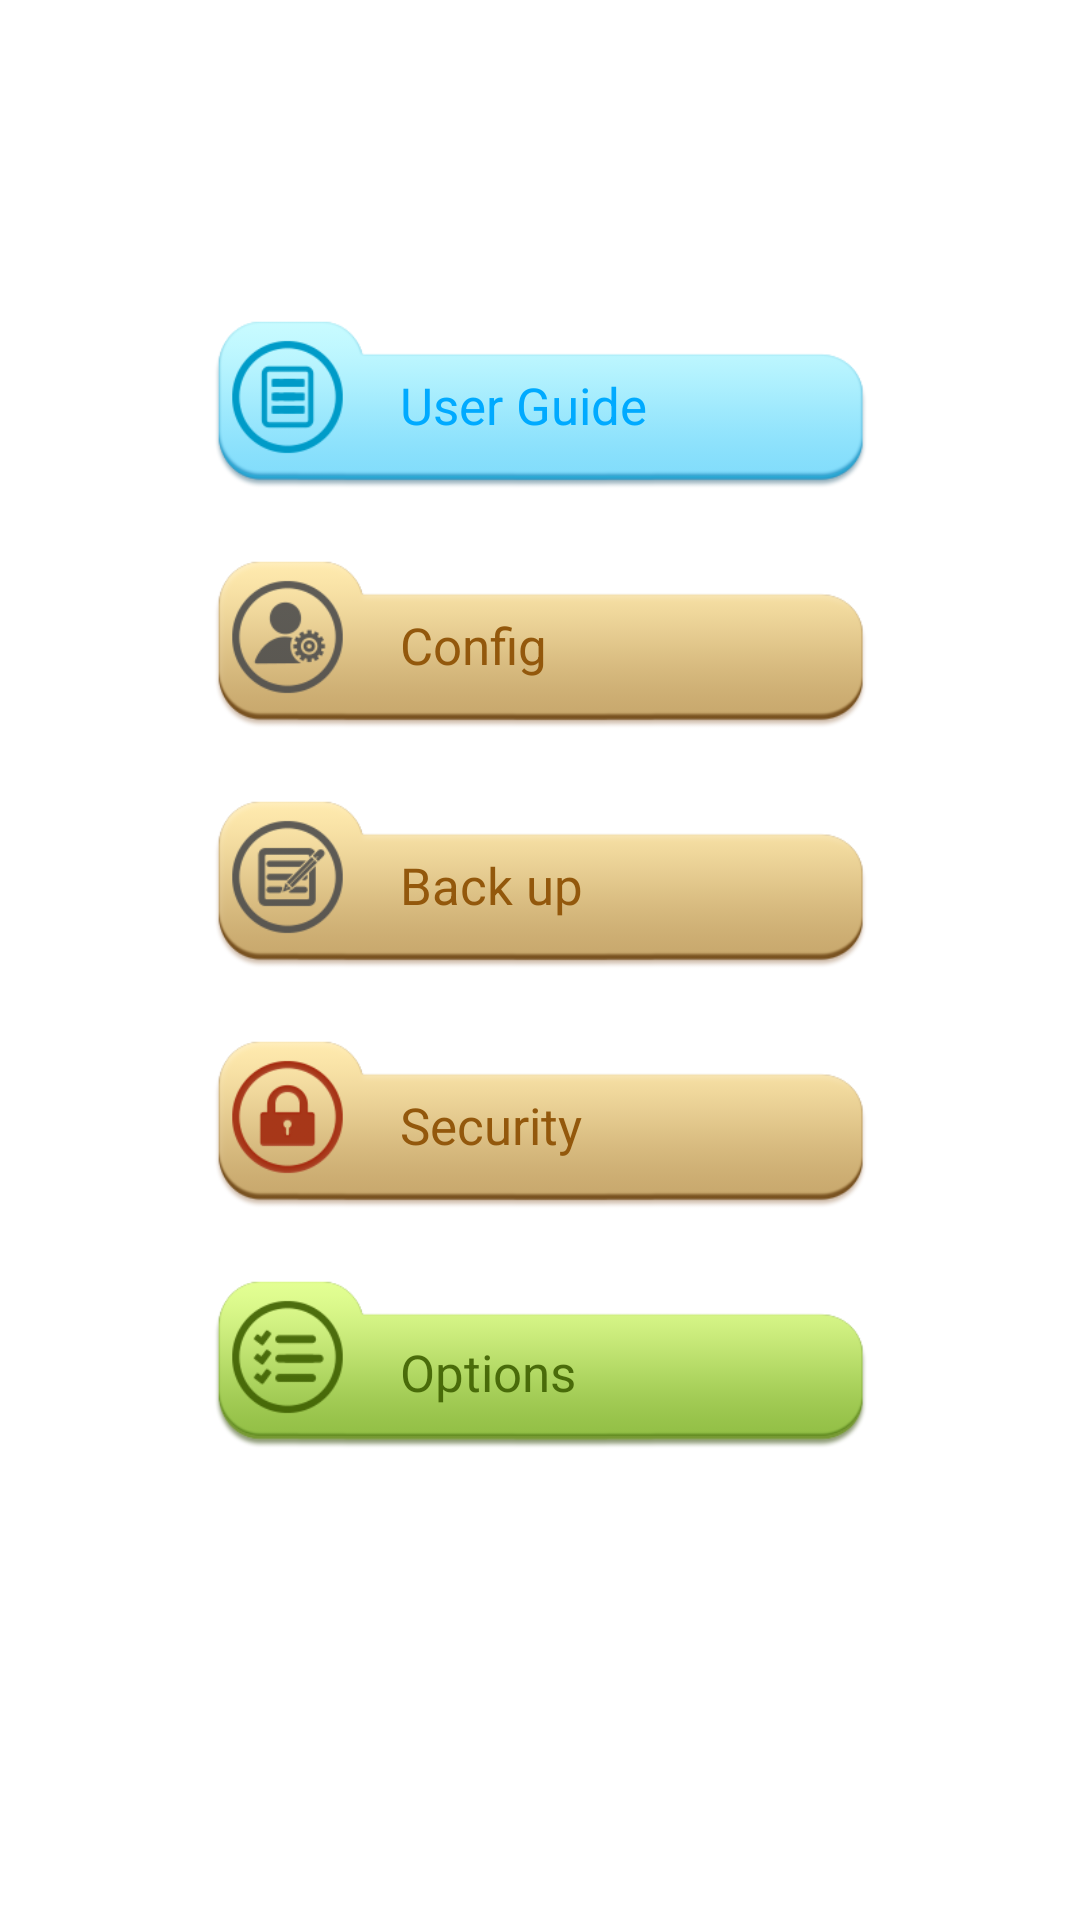

Icon bounding boxes for this 1080px×1920px phone screenshot, format rect(x1, y1, x2, y2):
select: rect(217, 1281, 400, 1446)
setting: rect(218, 562, 400, 725)
user guied: rect(217, 322, 400, 485)
